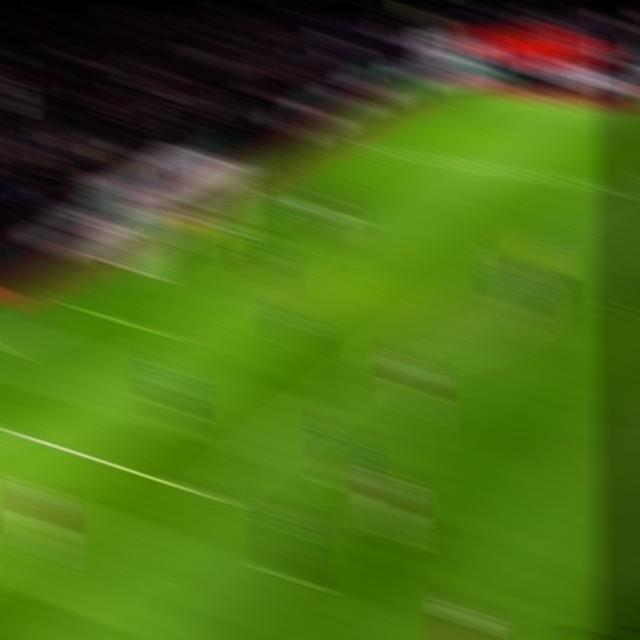bigarea_bottom_inner: (184, 475, 231, 514)
bigarea_top_inner: (587, 171, 627, 200)
bigarea_top_outter: (355, 135, 390, 160)
bottom_arc_area_intersection: (351, 351, 391, 381)
corner: (451, 83, 490, 105)
smallarea_bottom_inner: (140, 312, 183, 349)
smallarea_bottom_outter: (60, 292, 100, 322)
smallarea_top_inner: (335, 200, 372, 229)
smallarea_top_outter: (262, 186, 299, 212)
top_arc_area_intersection: (493, 246, 529, 271)
